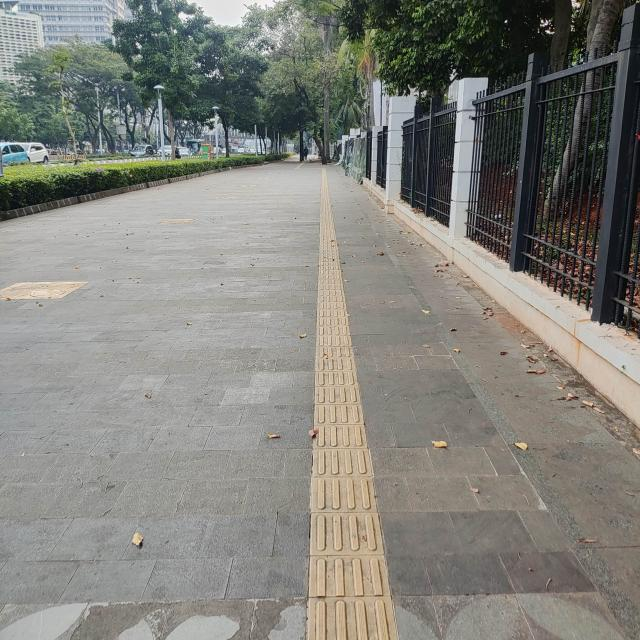lurus: (294, 184, 382, 640)
